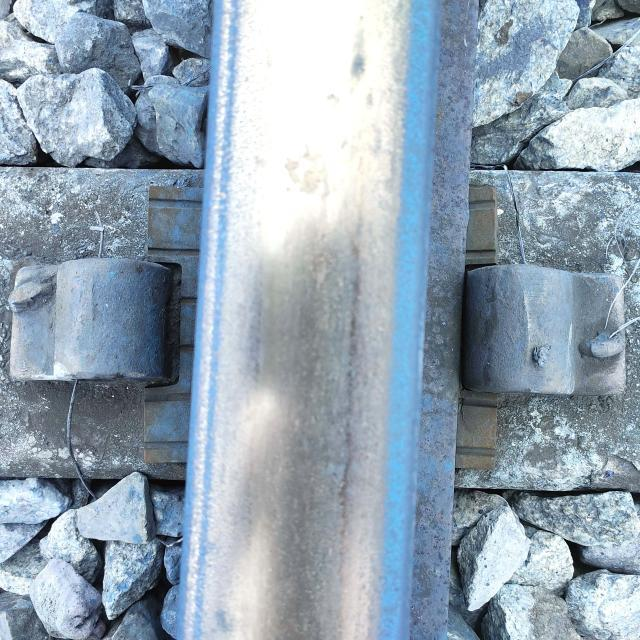Missing Fastener: (462, 265, 629, 408), (8, 257, 179, 387)
